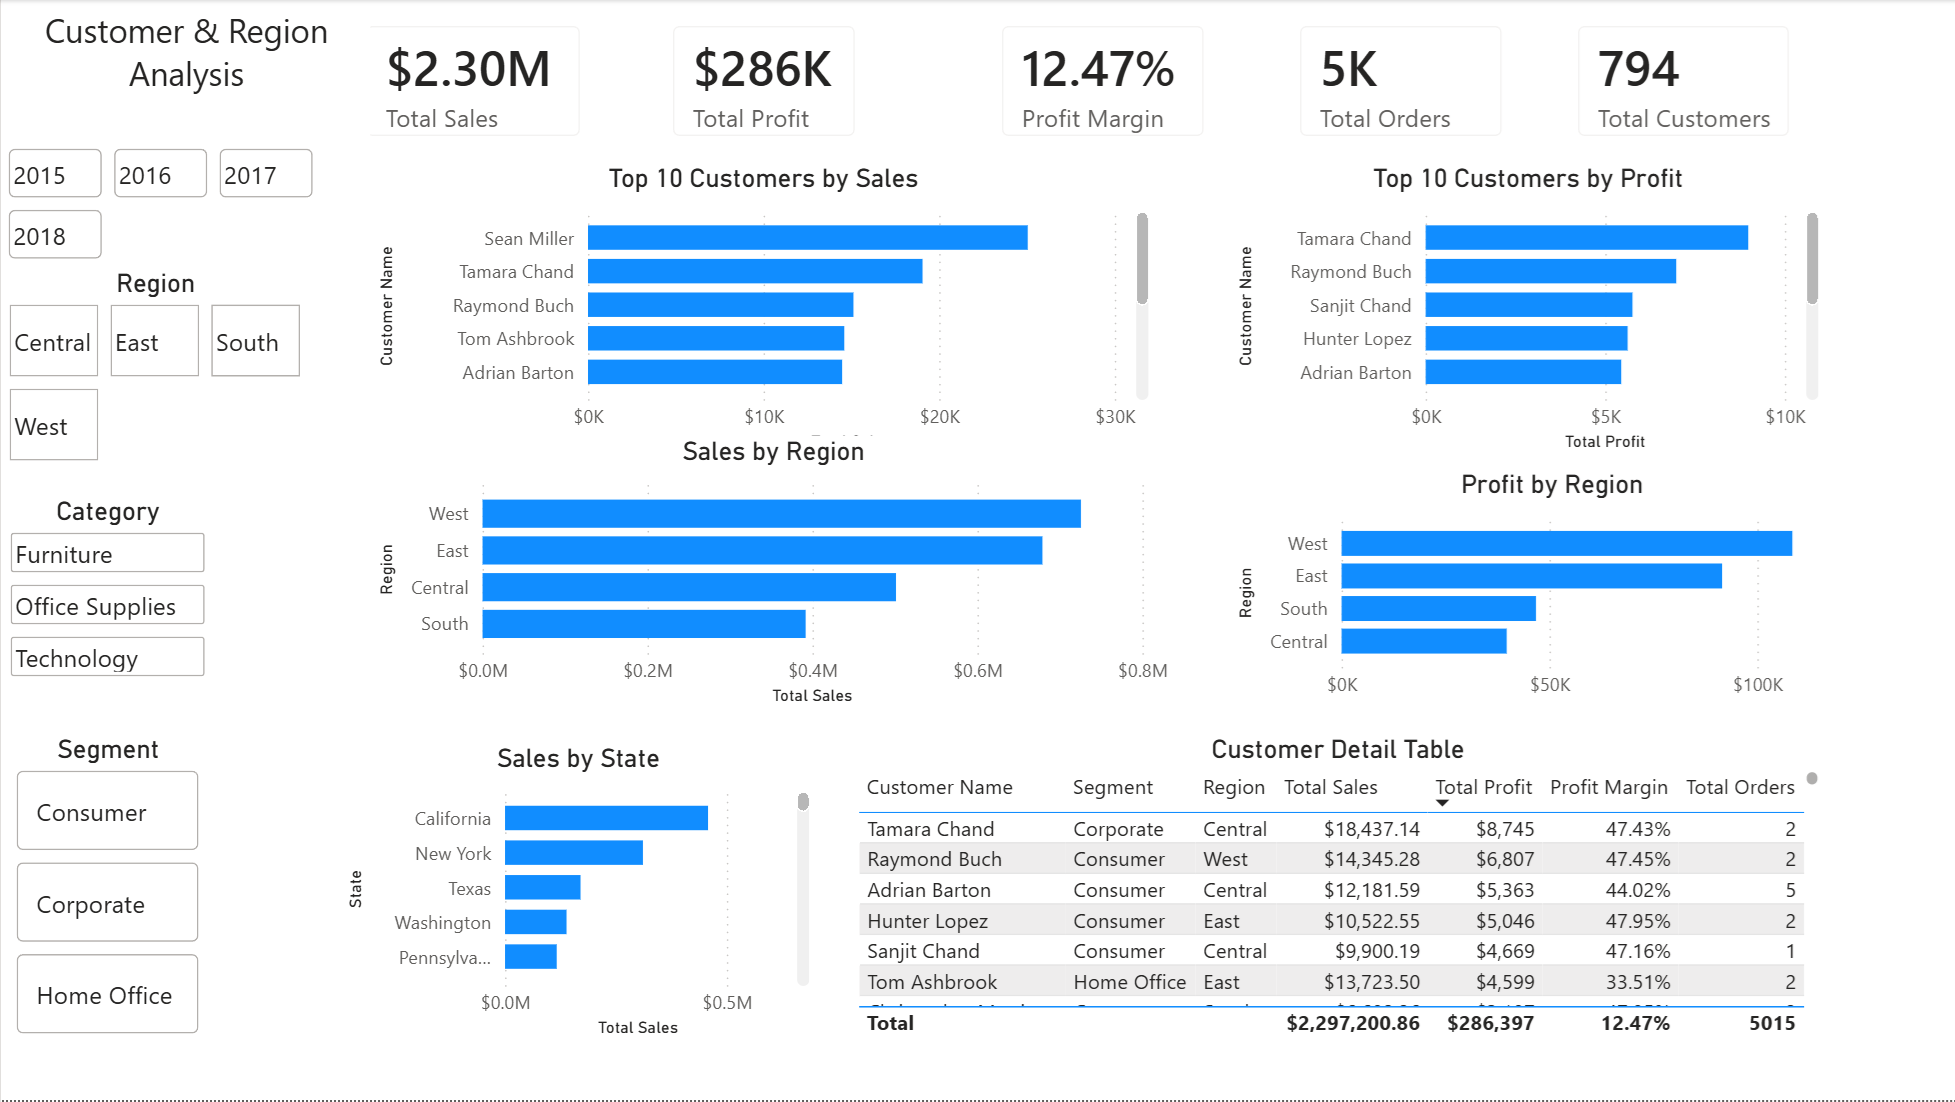

The page's visual inventory and layout, read from the dashboard file:
{"tool":"powerbi","page":{"name":"Customer & Region Analysis","canvas":[1280,720],"ordinal":2},"visuals":[{"type":"cardVisual","fields":{"Data":["Measures_.Total Sales"]},"box":[221.8,0,174.1,106.7],"z":0},{"type":"cardVisual","fields":{"Data":["Measures_.Total Profit"]},"box":[422.7,0,153.1,106.7],"z":1},{"type":"cardVisual","fields":{"Data":["Measures_.Profit Margin"]},"box":[638,0,166.2,106.7],"z":2},{"type":"cardVisual","fields":{"Data":["Measures_.Total Orders"]},"box":[833,0,166.2,106.7],"z":3},{"type":"cardVisual","fields":{"Data":["Measures_.Total Customers"]},"box":[1015,0,172.8,106.7],"z":4},{"type":"advancedSlicerVisual","fields":{"Values":["DimDate.Year"]},"box":[0,73.6,210.3,102.1],"z":5},{"type":"advancedSlicerVisual","fields":{"Values":["DimLocation.Region"]},"box":[0.6,175.7,201,131.8],"z":6},{"type":"advancedSlicerVisual","fields":{"Values":["DimProduct.Category"]},"box":[1.3,324.6,137.4,124.3],"z":7},{"type":"advancedSlicerVisual","fields":{"Values":["DimCustomer.Segment"]},"box":[4.9,480.6,129.9,202.9],"z":8},{"type":"clusteredBarChart","title":"Top 10 Customers by Sales","fields":{"Category":["DimCustomer.Customer Name"],"Y":["Measures_.Total Sales"]},"box":[242.1,106.7,513.7,193],"z":9},{"type":"clusteredBarChart","title":"Top 10 Customers by Profit","fields":{"Category":["DimCustomer.Customer Name"],"Y":["Measures_.Total Profit"]},"box":[804.3,106.7,390,193],"z":10},{"type":"clusteredBarChart","title":"Sales by Region","fields":{"Category":["DimLocation.Region"],"Y":["Measures_.Total Sales"]},"box":[242.1,285.3,526.8,180.6],"z":11},{"type":"clusteredBarChart","title":"Profit by Region","fields":{"Category":["DimLocation.Region"],"Y":["Measures_.Total Profit"]},"box":[804.3,306.9,421.4,159],"z":12},{"type":"clusteredBarChart","title":"Sales by State","fields":{"Category":["DimLocation.State"],"Y":["Measures_.Total Sales"]},"box":[221.8,486.2,312.1,197],"z":13},{"type":"tableEx","title":"Customer Detail Table","fields":{"Values":["DimCustomer.Customer Name","DimCustomer.Segment","DimLocation.Region","Measures_.Total Sales","Measures_.Total Profit","Measures_.Profit Margin","Measures_.Total Orders"]},"box":[555.6,480.3,638.7,202.9],"z":14},{"type":"textbox","box":[0.7,0,241.5,93.6],"z":15}]}

Visuals, with their boxes in screenshot pixels (x1, y1, x2, y2), scaled from the page's 1280x720 canvas onto the 1955x1102 screenshot:
cardVisual - Measures_.Total Sales: box=[339, 0, 605, 163]
cardVisual - Measures_.Total Profit: box=[646, 0, 879, 163]
cardVisual - Measures_.Profit Margin: box=[974, 0, 1228, 163]
cardVisual - Measures_.Total Orders: box=[1272, 0, 1526, 163]
cardVisual - Measures_.Total Customers: box=[1550, 0, 1814, 163]
advancedSlicerVisual - DimDate.Year: box=[0, 113, 321, 269]
advancedSlicerVisual - DimLocation.Region: box=[1, 269, 308, 471]
advancedSlicerVisual - DimProduct.Category: box=[2, 497, 212, 687]
advancedSlicerVisual - DimCustomer.Segment: box=[7, 736, 206, 1046]
"Top 10 Customers by Sales" clusteredBarChart: box=[370, 163, 1154, 459]
"Top 10 Customers by Profit" clusteredBarChart: box=[1228, 163, 1824, 459]
"Sales by Region" clusteredBarChart: box=[370, 437, 1174, 713]
"Profit by Region" clusteredBarChart: box=[1228, 470, 1872, 713]
"Sales by State" clusteredBarChart: box=[339, 744, 815, 1046]
"Customer Detail Table" tableEx: box=[849, 735, 1824, 1046]
textbox: box=[1, 0, 370, 143]
